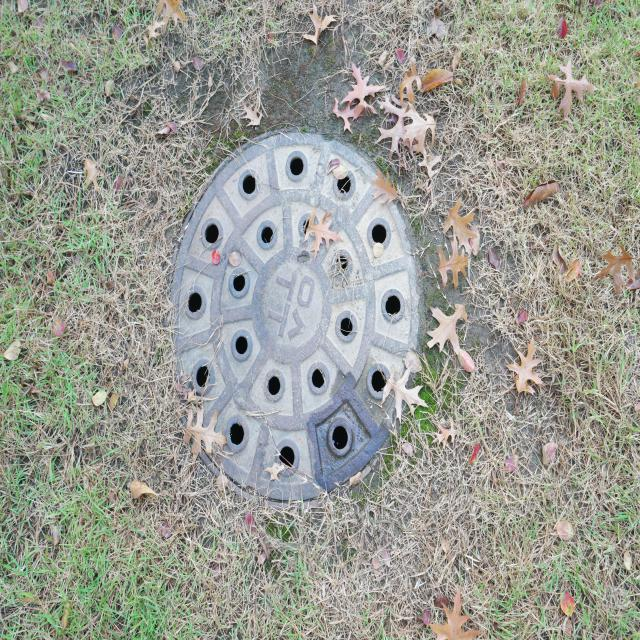manhole: (168, 131, 426, 505)
